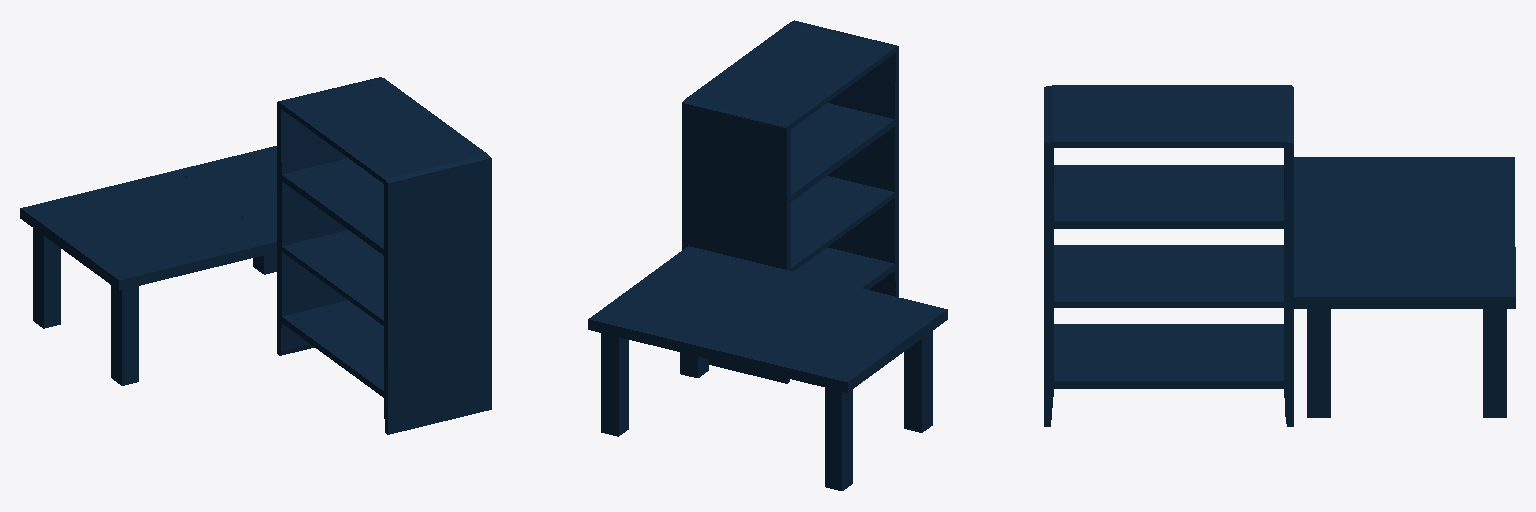
robot.urdf — bookshelves_table:
<?xml version="1.0" ?>

<robot name="bookshelves_table">
    <material name="Brown">
        <color rgba="0.1 0.2 0.3 1"/>
    </material>
    <link name="bookshelf" type="static">
        <contact>
            <lateral_friction value="100000.0"/>
            <rolling_friction value="0.0"/>
        </contact>
        <inertial>
            <mass value="0"/>
            <inertia ixx="0" ixy="0" ixz="0" iyy="0" iyz="0" izz="0"/>
        </inertial>


        <visual>
            <geometry>
                <mesh filename="bookshelves_table_center-acd.obj"/>
            </geometry>
            <material name="Brown"/>
        </visual>
        <collision>
            <geometry>
                <mesh filename="bookshelves_table_center-acd.obj"/>
            </geometry>
        </collision>
    </link>
</robot>

--- Facts derived from the render (not from the file) ---
3 views of the same robot in one strip: view 1: azimuth 30°, elevation 25°; view 2: azimuth 150°, elevation 25°; view 3: azimuth 270°, elevation 25° (orthographic).
Robot: bookshelves_table — 1 links, 0 joints (none); root link bookshelf; default pose: every joint at zero.
Links seen in each view (by area): view 1: bookshelf; view 2: bookshelf; view 3: bookshelf.
Boxes of the visible links, bbox=[...] form: bookshelf: bbox=[20, 77, 491, 434]; bookshelf: bbox=[588, 20, 947, 490]; bookshelf: bbox=[1044, 85, 1515, 426].
Size in the robot's own frame: 1.54 by 2.14 by 1.43 metres.
1 mesh visuals loaded from 1 distinct referenced files (1 OBJ).